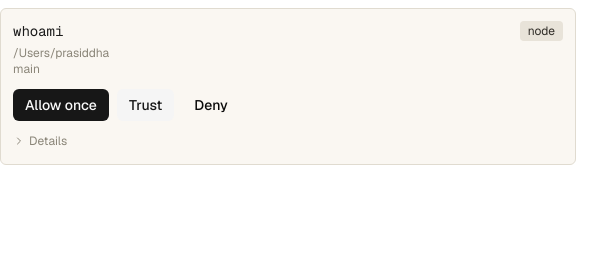
Scenario: ApprovalCard layout › shows resolvedPath and argv when Details is toggled open
The image size is (593, 270).
Expected: the text "/usr/bin/whoami" is not shown
Click the button "Details": (40, 141) [13,133,67,149]
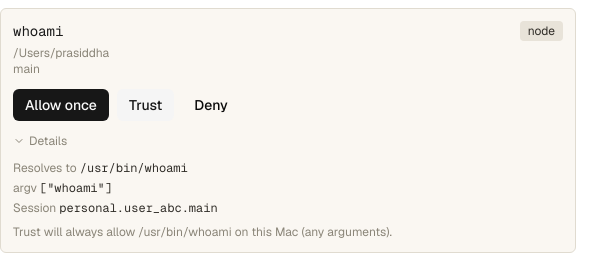
Expected: the text "/usr/bin/whoami" is shown, [80,160,188,176]
